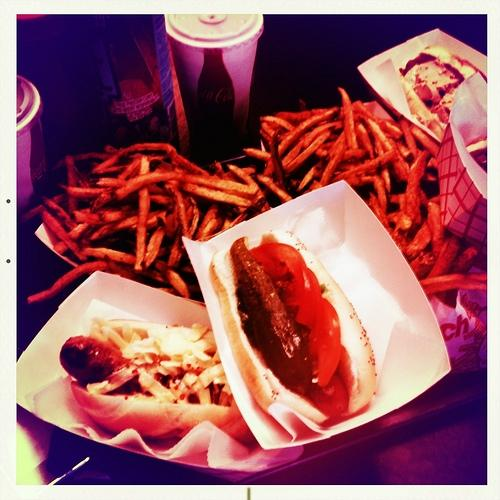tomato: (310, 297, 341, 387), (294, 268, 322, 329)
